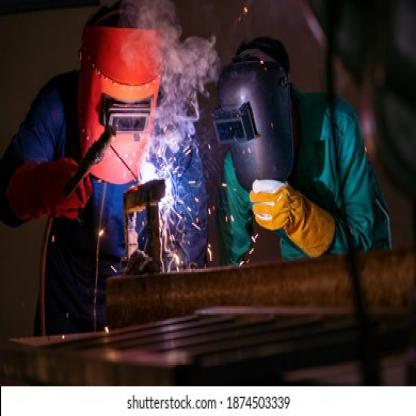glove: (248, 175, 335, 257), (10, 156, 92, 226)
